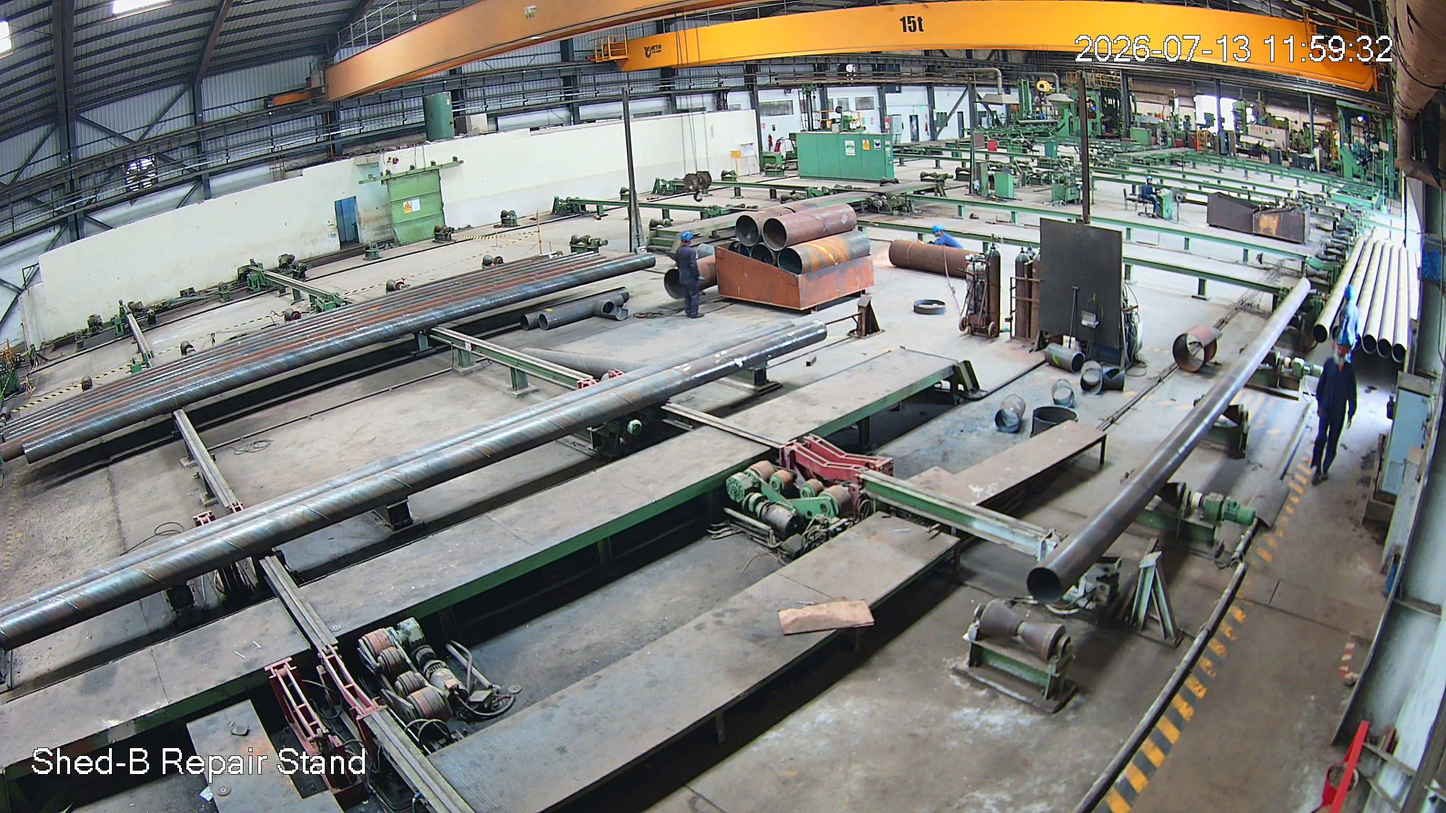Person: (1302, 337, 1354, 498)
